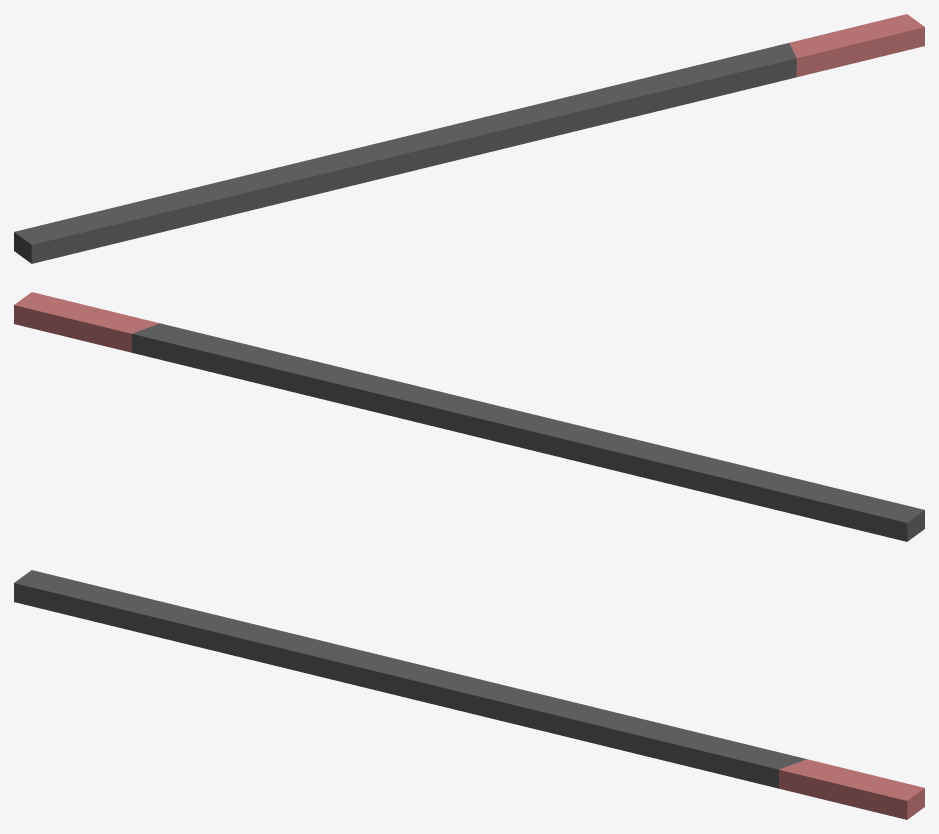
The model's file is step_02.glb.
The picture shows the model from 3 angles, top to bottom: view 1: azimuth 30°, elevation 25°; view 2: azimuth 150°, elevation 25°; view 3: azimuth 330°, elevation 25°; orthographic projection.
Parts seen in each view (by area): view 1: part__cill seal, removed__cill seal; view 2: part__cill seal, removed__cill seal; view 3: part__cill seal, removed__cill seal.
Part boxes in pixels (bbox=[...]): part__cill seal: bbox=[14, 43, 796, 263]; removed__cill seal: bbox=[789, 14, 924, 76]; part__cill seal: bbox=[132, 323, 924, 541]; removed__cill seal: bbox=[14, 292, 159, 352]; part__cill seal: bbox=[14, 570, 806, 788]; removed__cill seal: bbox=[779, 759, 924, 819].
Bounding box in the file's own units: 2460 × 50 × 85.
